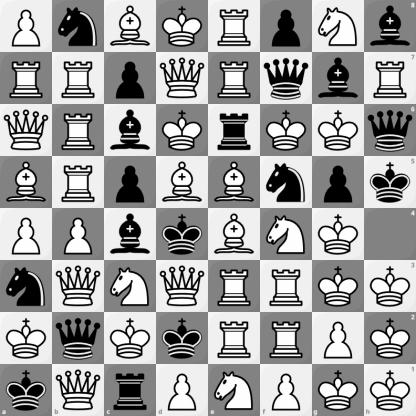B: (1, 157, 52, 208), (105, 1, 156, 52), (157, 157, 208, 208), (209, 157, 260, 208), (209, 209, 260, 260)
K: (312, 364, 364, 416), (364, 260, 416, 312), (364, 312, 416, 364), (364, 364, 416, 416), (1, 313, 52, 364), (105, 313, 156, 364), (157, 1, 208, 52), (157, 105, 208, 156), (261, 105, 312, 156), (313, 105, 364, 156), (313, 209, 364, 260), (313, 261, 364, 312)
N: (209, 364, 260, 416), (105, 261, 156, 312), (261, 209, 312, 260), (313, 1, 364, 52)
P: (156, 364, 209, 416), (260, 364, 312, 416), (1, 1, 52, 52), (1, 209, 52, 260), (53, 209, 104, 260), (313, 313, 364, 364)
Q: (52, 364, 104, 416), (1, 105, 52, 156), (53, 261, 104, 312), (157, 53, 208, 104), (157, 261, 208, 312)
R: (364, 52, 416, 104), (1, 53, 52, 104), (53, 53, 104, 104), (53, 105, 104, 156), (53, 157, 104, 208), (209, 1, 260, 52), (209, 53, 260, 104), (209, 261, 260, 312), (209, 313, 260, 364), (261, 261, 312, 312), (261, 313, 312, 364)
b: (364, 0, 416, 52), (105, 105, 156, 156), (105, 209, 156, 260), (313, 53, 364, 104)
board: (0, 0, 415, 415)
k: (364, 156, 416, 209), (0, 364, 52, 416), (157, 209, 208, 260), (157, 313, 208, 364)
n: (1, 261, 52, 312), (53, 1, 104, 52), (261, 157, 312, 208)
p: (105, 53, 156, 104), (105, 157, 156, 208), (261, 1, 312, 52), (313, 157, 364, 208)
q: (364, 104, 416, 156), (53, 313, 104, 364), (261, 53, 312, 104)
r: (104, 364, 156, 416), (209, 105, 260, 156)
